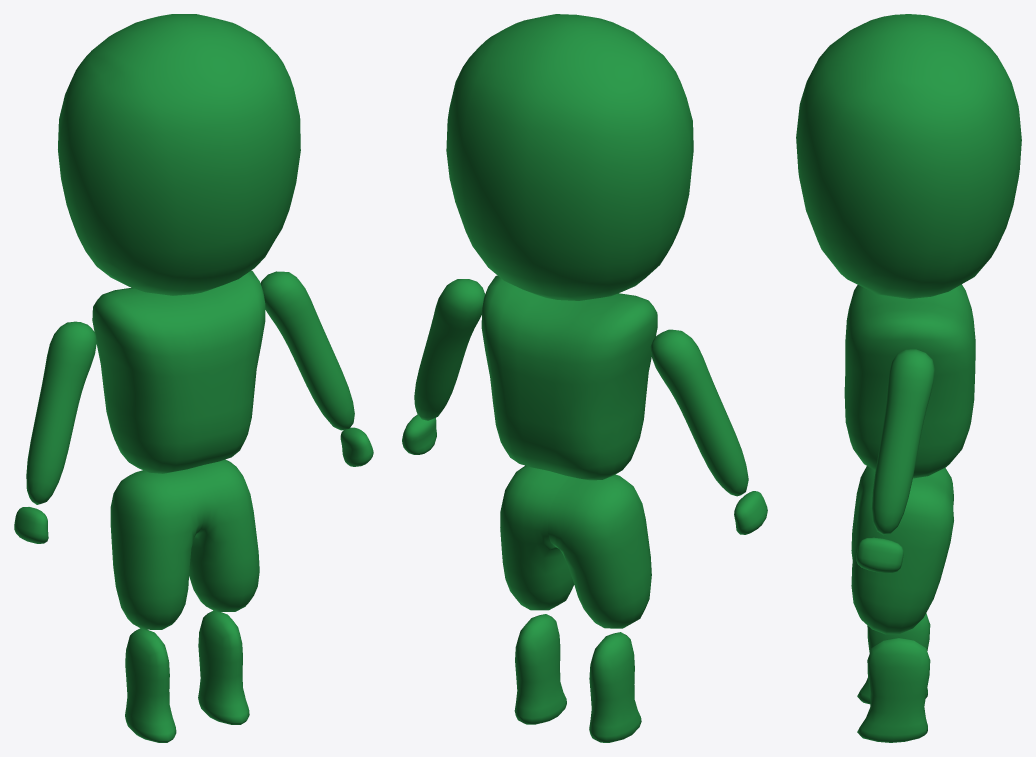
Rendered from Dummy_Export_V4.fbx.
3 renders of one model, left to right at view 1: azimuth 30°, elevation 25°; view 2: azimuth 150°, elevation 25°; view 3: azimuth 270°, elevation 25°, orthographic.
Visible parts, largest first — view 1: FULL_BODY; view 2: FULL_BODY; view 3: FULL_BODY.
Part boxes in pixels (x1,y1,x2,y2): FULL_BODY: (14,14,373,742); FULL_BODY: (402,14,767,742); FULL_BODY: (796,14,1021,742).
Size of the model in its own units: 87.87 by 167 by 49.21.
